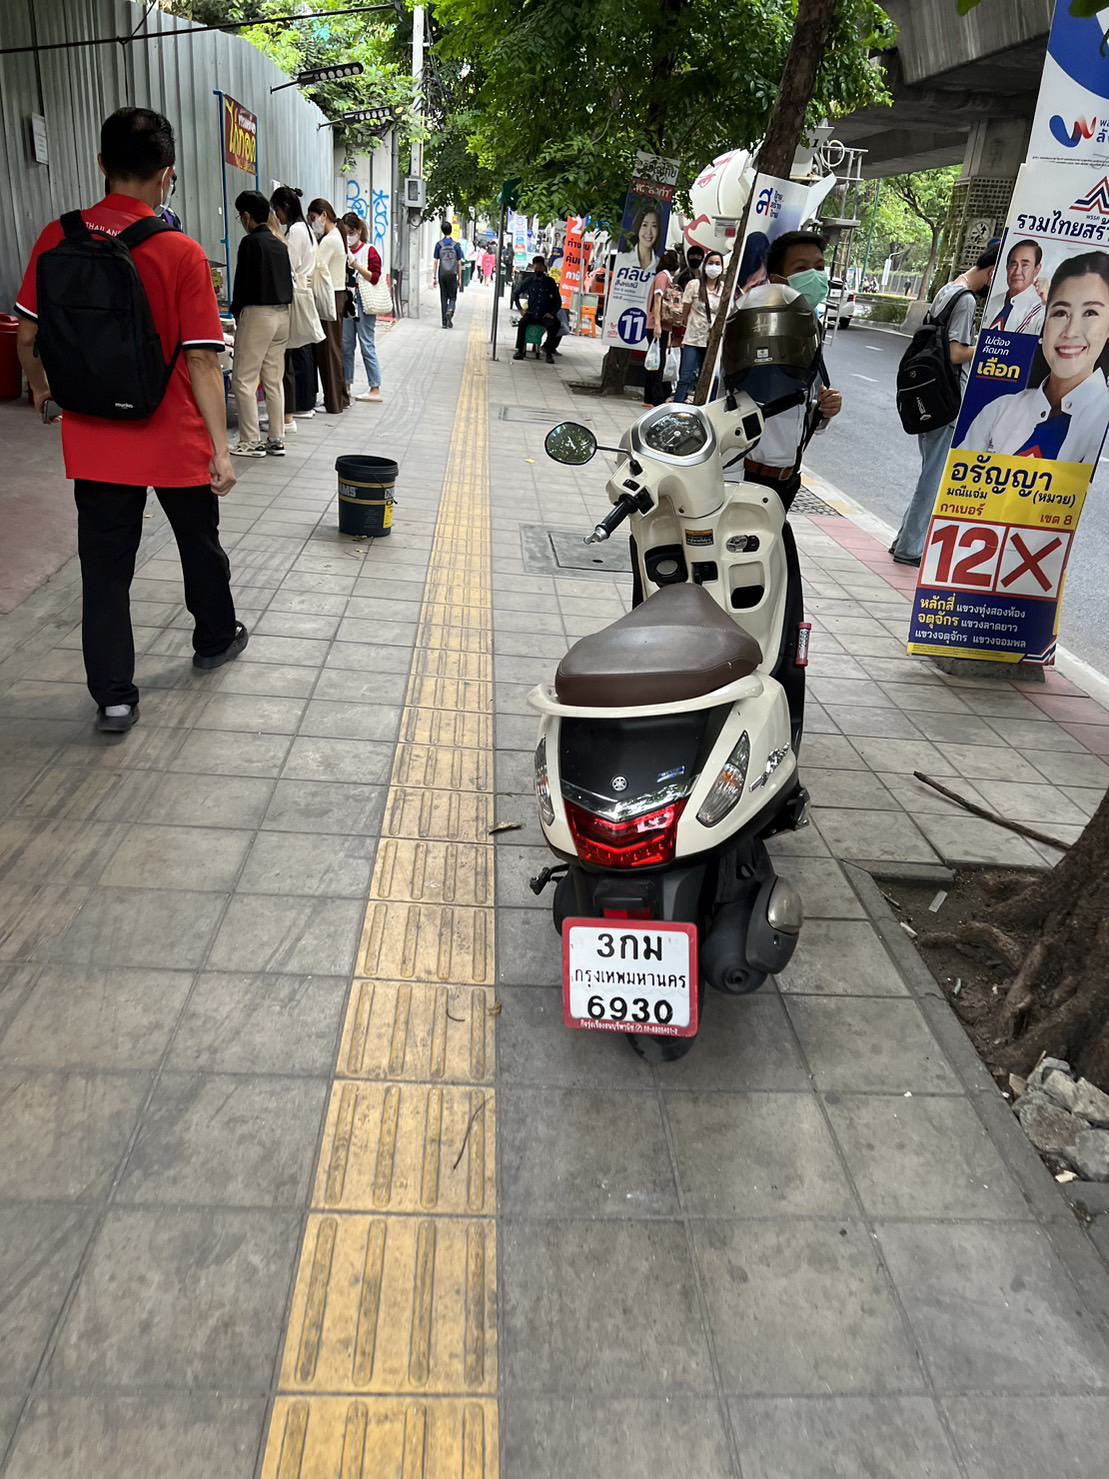Banner: (866, 2, 1109, 644)
